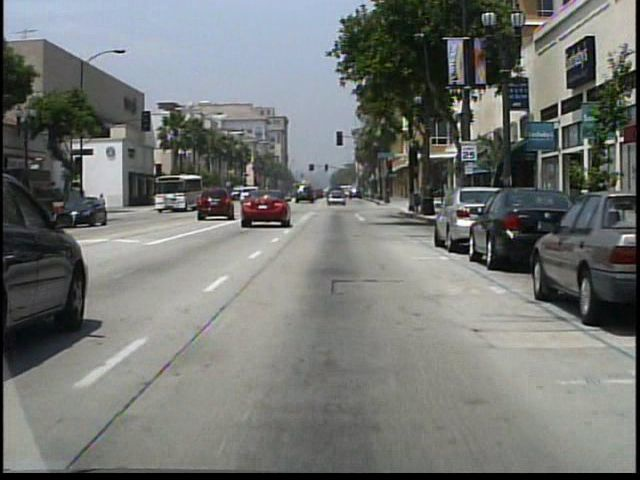person: (99, 192, 107, 216)
